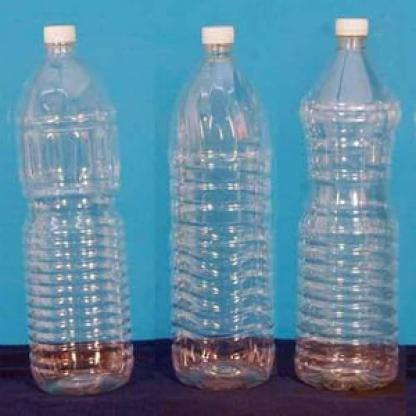bottle: (6, 18, 150, 404), (290, 15, 414, 400), (158, 19, 282, 400)
